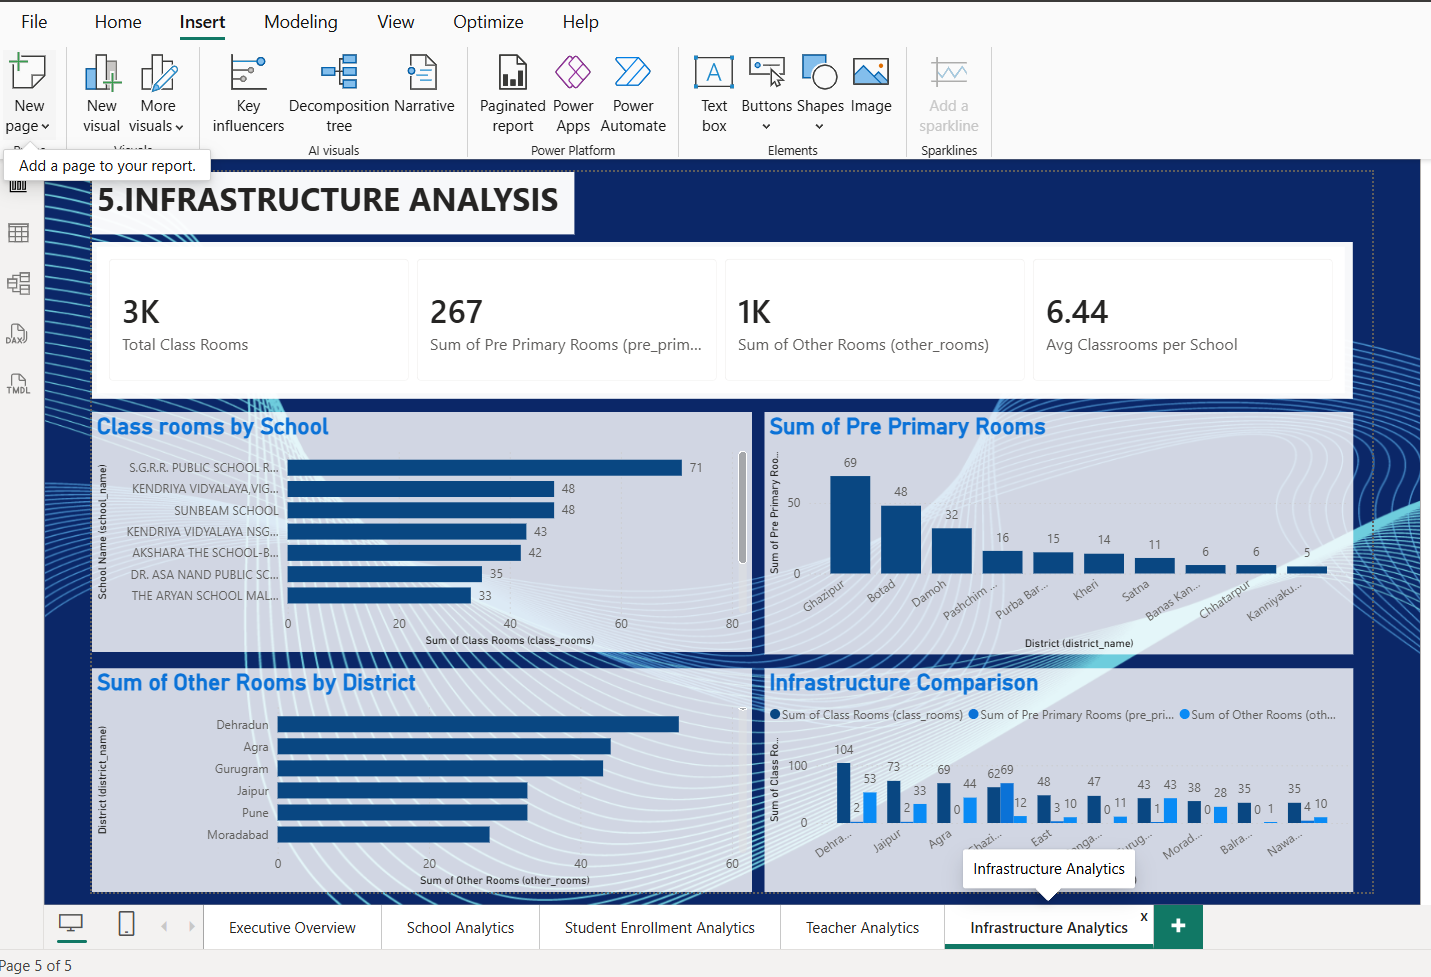

The dashboard page shown, as its layout file describes it:
{"tool":"powerbi","page":{"name":"Infrastructure Analytics","canvas":[1280,720],"ordinal":4},"visuals":[{"type":"clusteredBarChart","title":"Class rooms by School","fields":{"Category":["Basic Details of Schools_Sample_Data.School Name (school_name)"],"Y":["Sum(Basic Details of Schools_Sample_Data.Class Rooms (class_rooms))"]},"box":[0,240,660,240],"z":0},{"type":"clusteredColumnChart","title":"Sum of Pre Primary Rooms","fields":{"Category":["Basic Details of Schools_Sample_Data.District (district_name)"],"Y":["Sum(Basic Details of Schools_Sample_Data.Pre Primary Rooms (pre_primary))"]},"box":[672.5,240,588.8,242.5],"z":1000},{"type":"clusteredBarChart","title":"Sum of Other Rooms by District","fields":{"Category":["Basic Details of Schools_Sample_Data.District (district_name)"],"Y":["Sum(Basic Details of Schools_Sample_Data.Other Rooms (other_rooms))"]},"box":[0,496.2,660,223.8],"z":2000},{"type":"clusteredColumnChart","title":"Infrastructure Comparison","fields":{"Category":["Basic Details of Schools_Sample_Data.District (district_name)"],"Y":["Sum(Basic Details of Schools_Sample_Data.Class Rooms (class_rooms))","Sum(Basic Details of Schools_Sample_Data.Pre Primary Rooms (pre_primary))","Sum(Basic Details of Schools_Sample_Data.Other Rooms (other_rooms))"]},"box":[672.5,496.2,588.8,223.8],"z":3000},{"type":"textbox","box":[0,0,482.5,62.5],"z":4000},{"type":"cardVisual","fields":{"Data":["Basic Details of Schools_Sample_Data.Total Class Rooms","Sum(Basic Details of Schools_Sample_Data.Pre Primary Rooms (pre_primary))","Sum(Basic Details of Schools_Sample_Data.Other Rooms (other_rooms))","Basic Details of Schools_Sample_Data.Avg Classrooms per School"]},"box":[0,70,1261.1,156.7],"z":5000}]}

Visuals, with their boxes on the page's 1280x720 design canvas (x1, y1, x2, y2). These are canvas units, not pixel positions in the 1431x977 screenshot, which may show the page scaled, cropped or inside an application window:
"Class rooms by School" clusteredBarChart: x1=0 y1=240 x2=660 y2=480
"Sum of Pre Primary Rooms" clusteredColumnChart: x1=672 y1=240 x2=1261 y2=482
"Sum of Other Rooms by District" clusteredBarChart: x1=0 y1=496 x2=660 y2=720
"Infrastructure Comparison" clusteredColumnChart: x1=672 y1=496 x2=1261 y2=720
textbox: x1=0 y1=0 x2=482 y2=62
cardVisual - Basic Details of Schools_Sample_Data.Total Class Rooms x Sum(Basic Details of Schools_Sample_Data.Pre Primary Rooms (pre_primary)): x1=0 y1=70 x2=1261 y2=227
